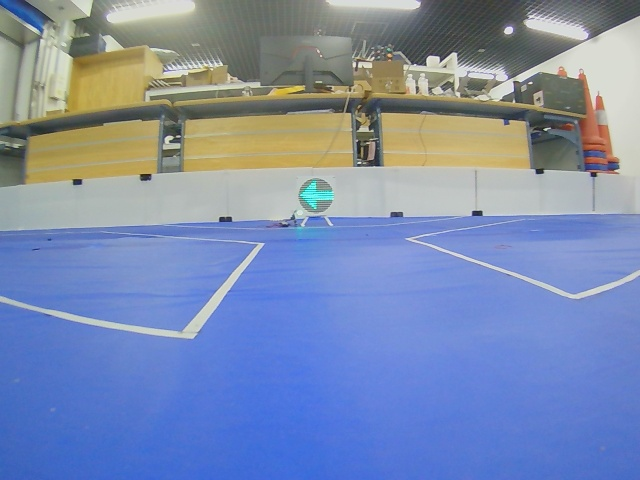left_green: (298, 178, 334, 213)
